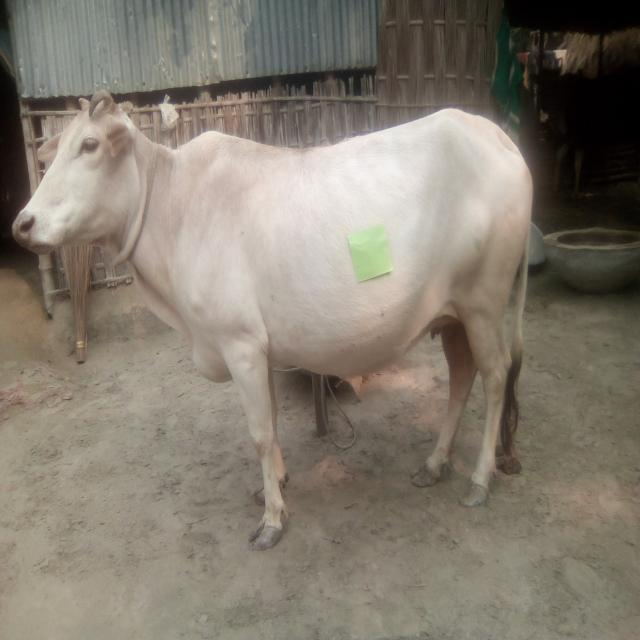badan_sapi: (205, 128, 528, 378)
sapi: (7, 84, 540, 556)
